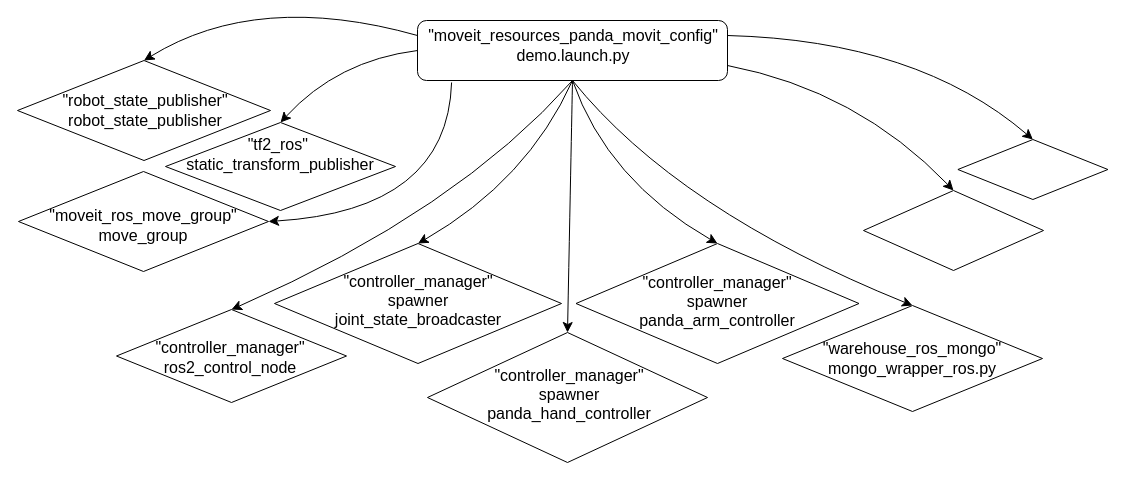
This 1126x481 diagram has some shape labels left out. The shapes that lost their labels are listed below. From the top down, each one's centre as x and y in pixels, then its label:
[1032,169]: "rviz2" rviz2
[953,230]: "ros_gz_sim" create
